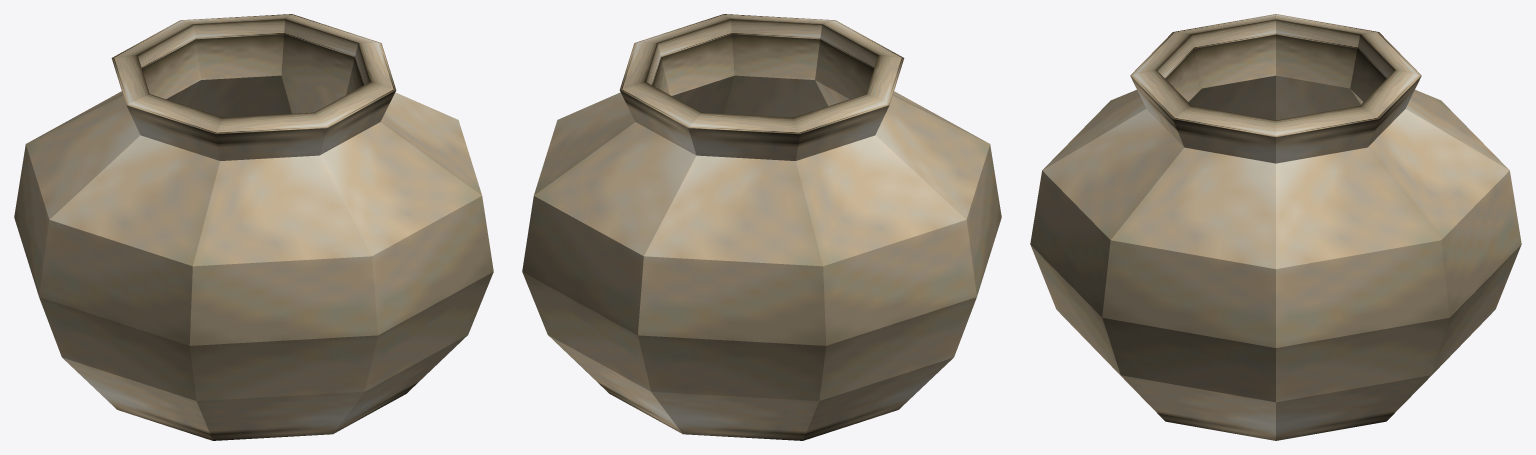
The model's file is Poly_Pot_01.obj.
3 views of the same model, side by side, from view 1: azimuth 30°, elevation 25°; view 2: azimuth 150°, elevation 25°; view 3: azimuth 270°, elevation 25° (orthographic).
Visible parts, largest first — view 1: Torus; view 2: Torus; view 3: Torus.
Part boxes in pixels (x1,y1,x2,y2): Torus: (14,14,493,440); Torus: (522,14,1001,440); Torus: (1030,14,1521,440).
Bounding box in the file's own units: 0.7089 × 0.4945 × 0.7089.
1 material, 1 textured.
